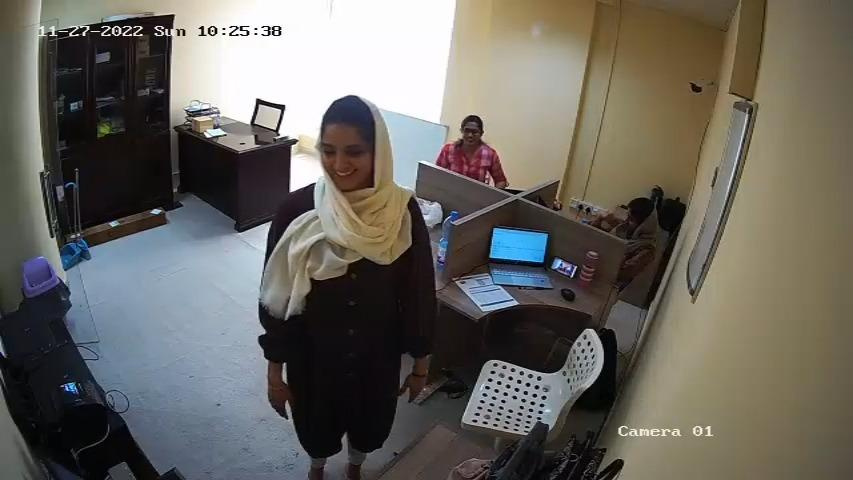no_apron: (300, 193, 396, 414), (443, 191, 444, 191)
